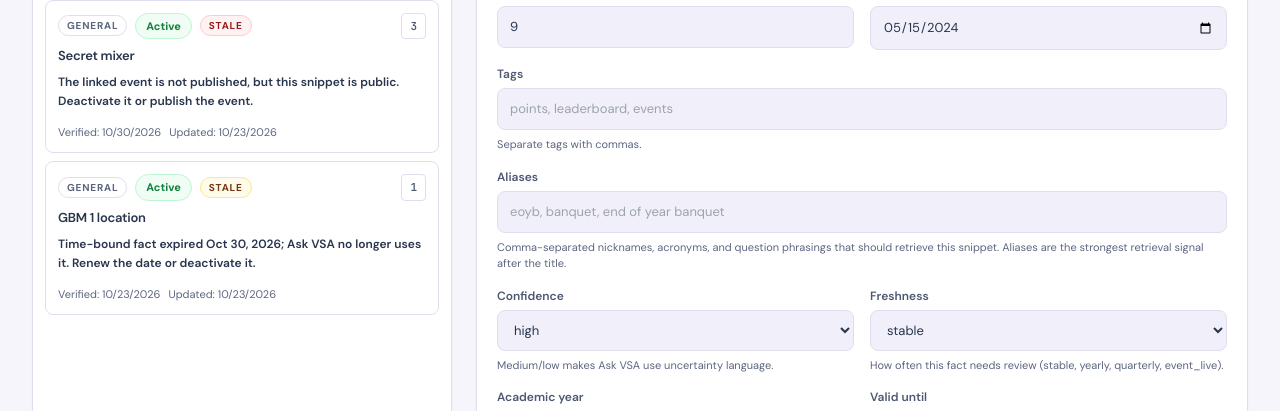
Test: Ask VSA knowledge freshness › says an expired date needs a new date, not a review
(page scrolled)
Click the button "GBM 1 location": [242, 238] box [45,161,439,315]
(page scrolled)
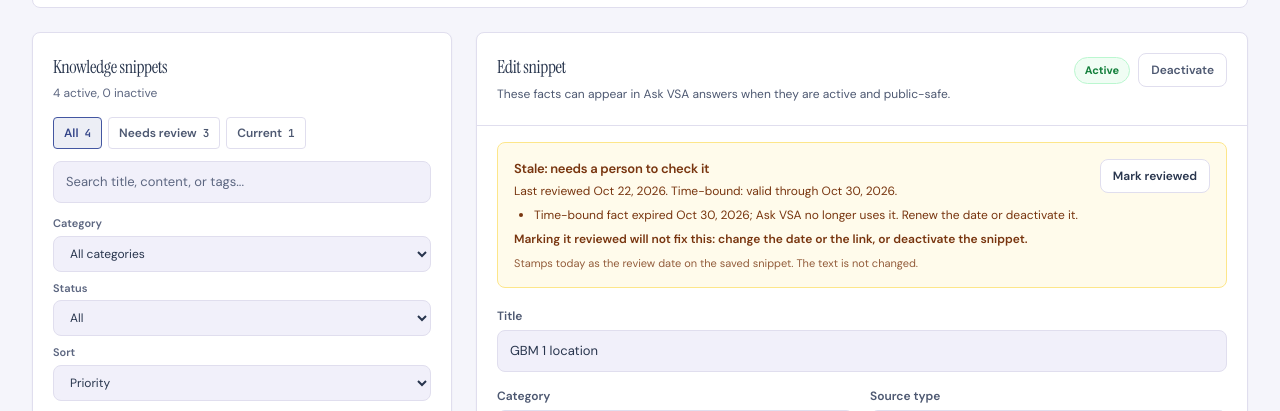
Check: the text "Marking it reviewed will not fix this" is shown, box [514,231,1028,247]
